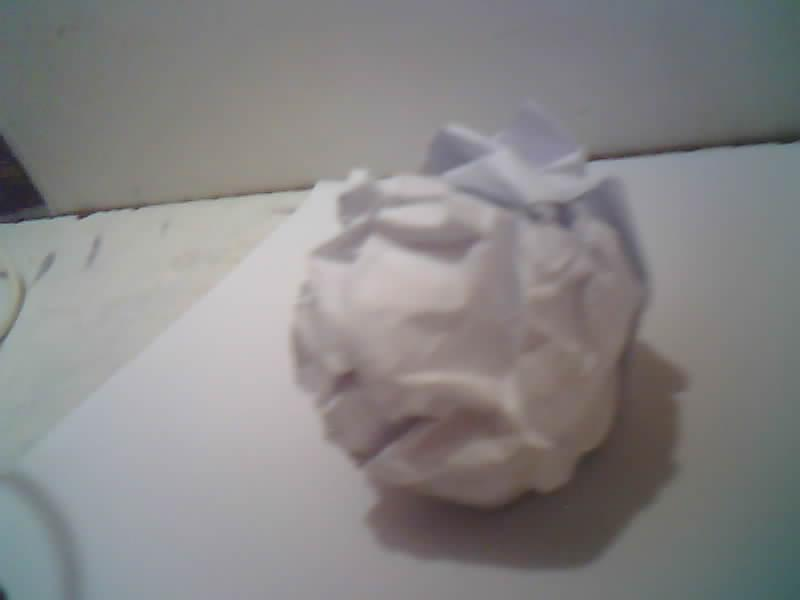biodegradable: (291, 105, 648, 506)
